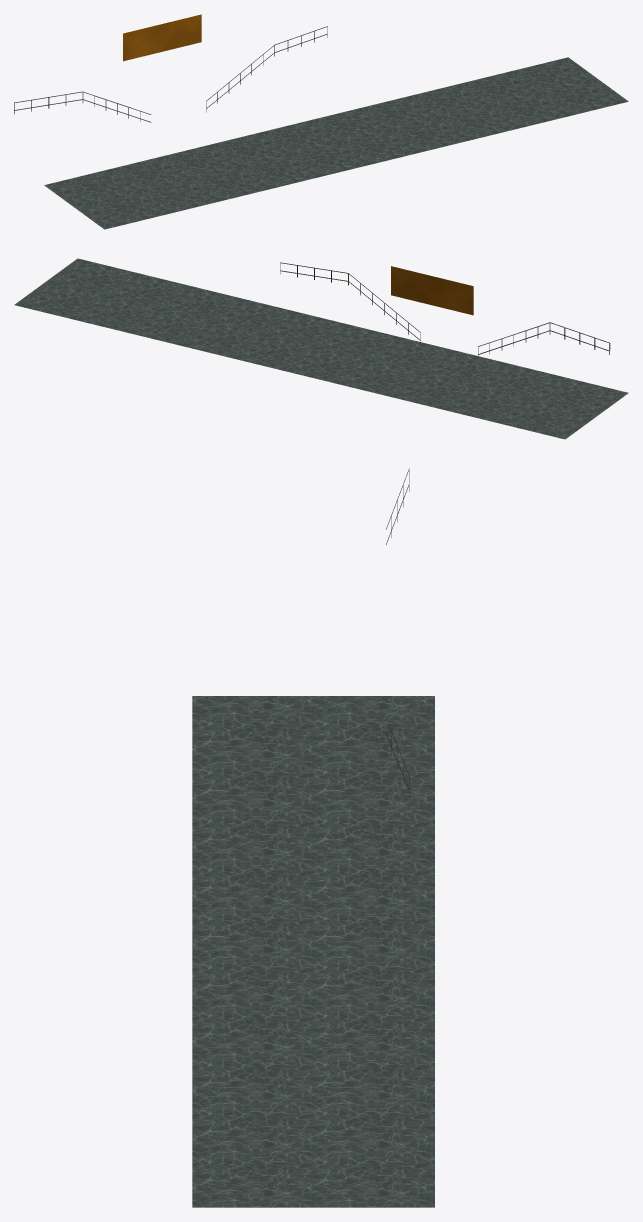
File: des_a51_entalpha.obj
The picture shows the model from 3 angles, top to bottom: view 1: azimuth 30°, elevation 25°; view 2: azimuth 150°, elevation 25°; view 3: azimuth 270°, elevation 25°; orthographic projection. The views are drawn at different scales.
Visible parts, largest first — view 1: des_a51_entalpha; view 2: des_a51_entalpha; view 3: des_a51_entalpha.
Part boxes in pixels (box(x1,y1,x2,y2)): des_a51_entalpha: box(14, 14, 628, 229); des_a51_entalpha: box(14, 258, 628, 439); des_a51_entalpha: box(192, 468, 434, 1207).
Bounding box in the file's own units: 44.95 × 9.84 × 8.97.
3 materials, 3 textured.
